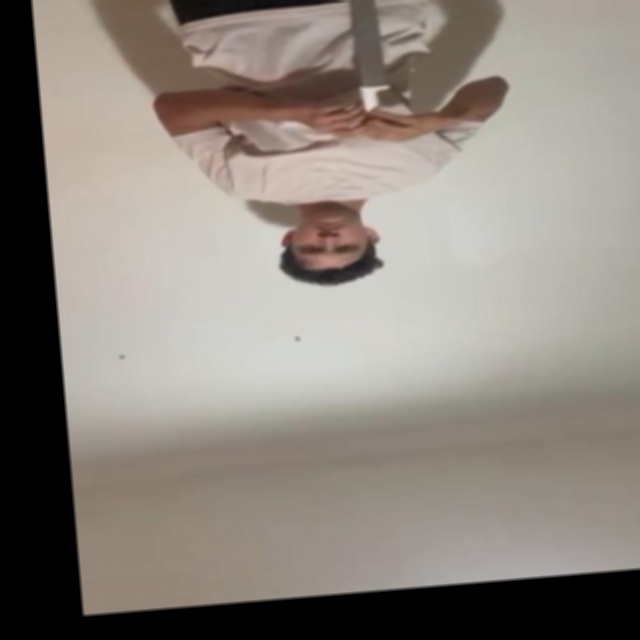Sharp-Object: (351, 0, 393, 85)
